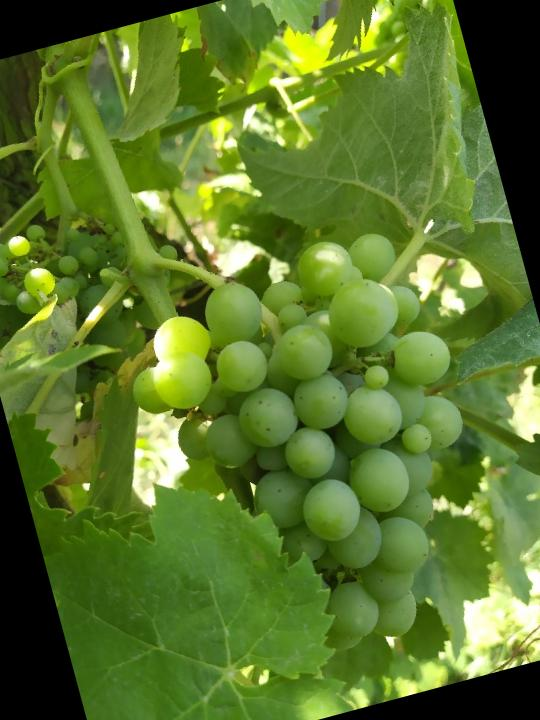grape: (103, 215, 520, 692)
